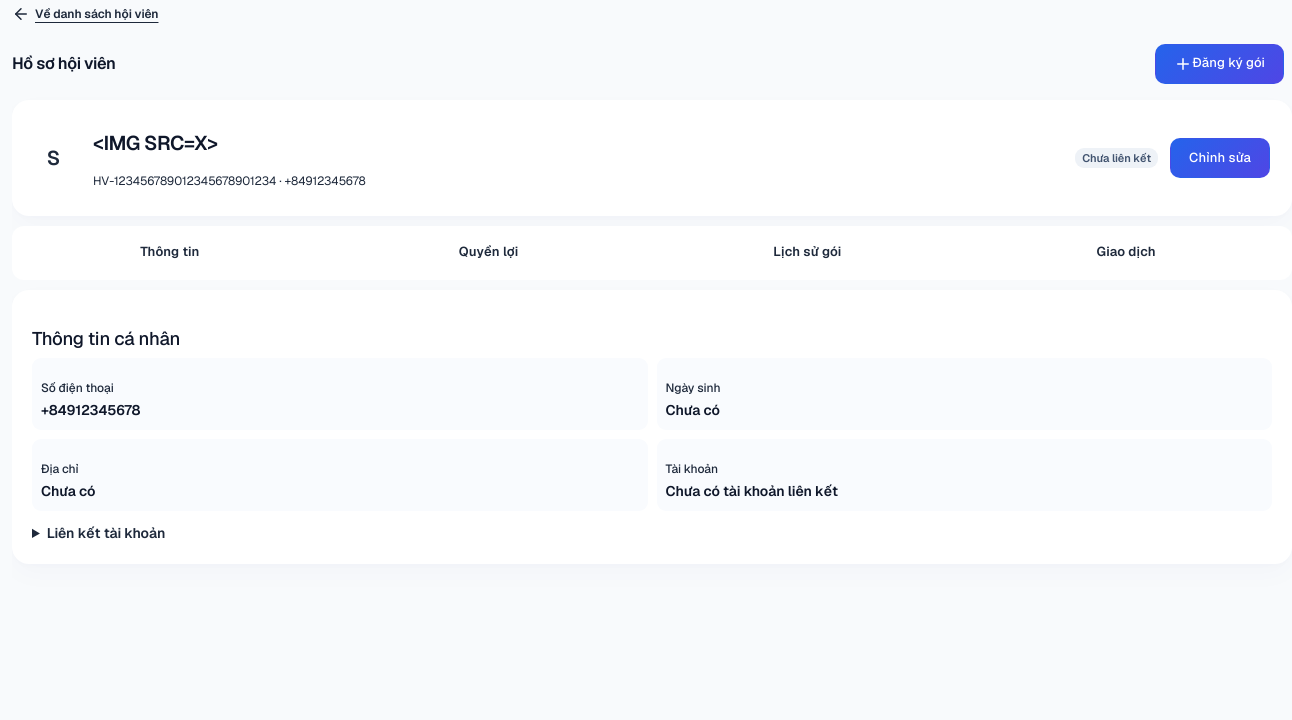
Test: US-11 TC14: list debounce, stale responses, pagination, error/retry and detail integration › detail displays profile version data, entitlements and fresh asOf, and refreshes without a write
Click the tab "Quyền lợi".
click(489, 253)  # box [335,234,643,272]
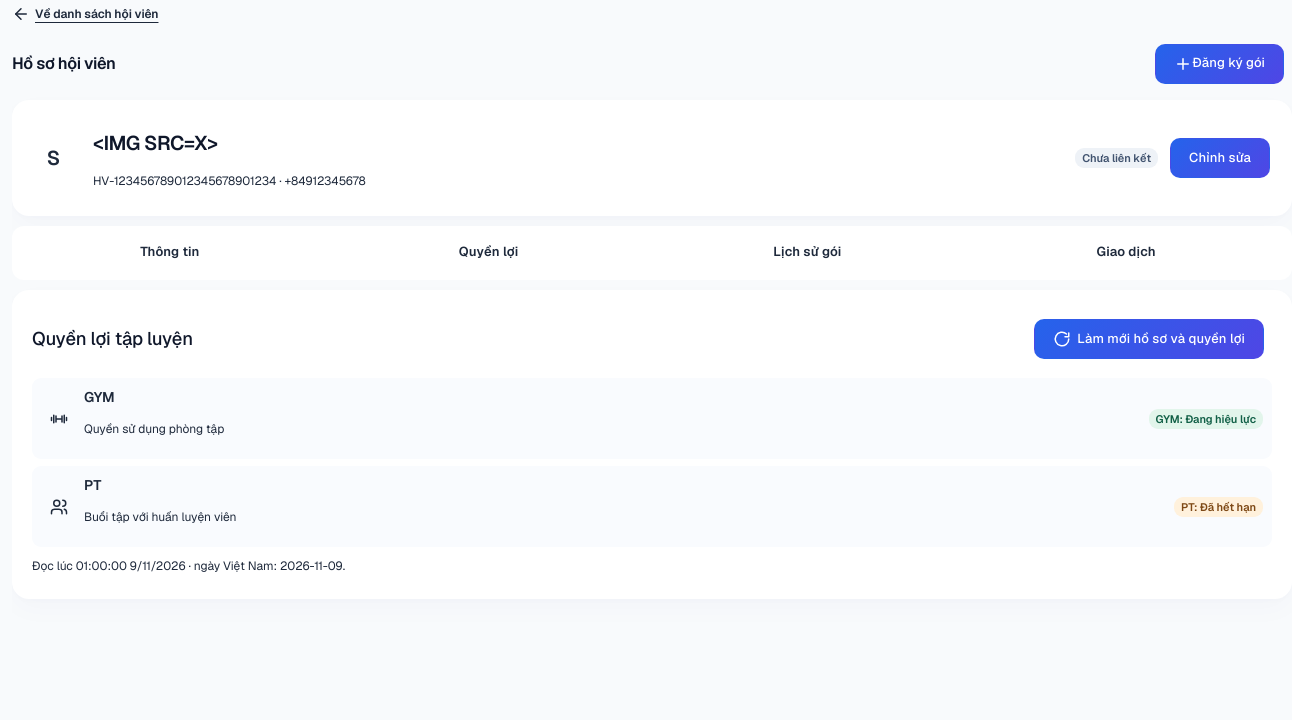
Expected: the text "GYM: Đang hiệu lực" is shown, [1148,409,1263,429]
Click the button "Làm mới hồ sơ và quyền lợi".
click(1149, 339)  # box [1034,319,1264,359]
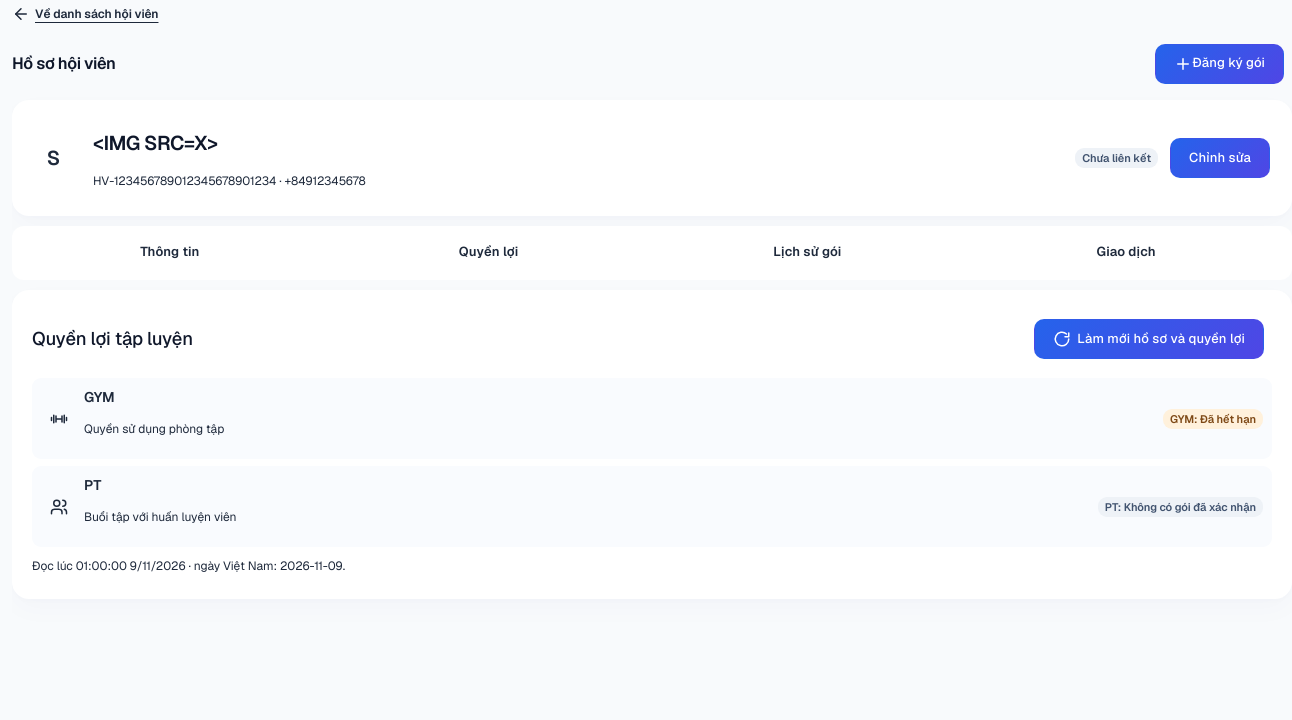
Expected: the text "GYM: Đã hết hạn" is shown, [1163,409,1263,429]
